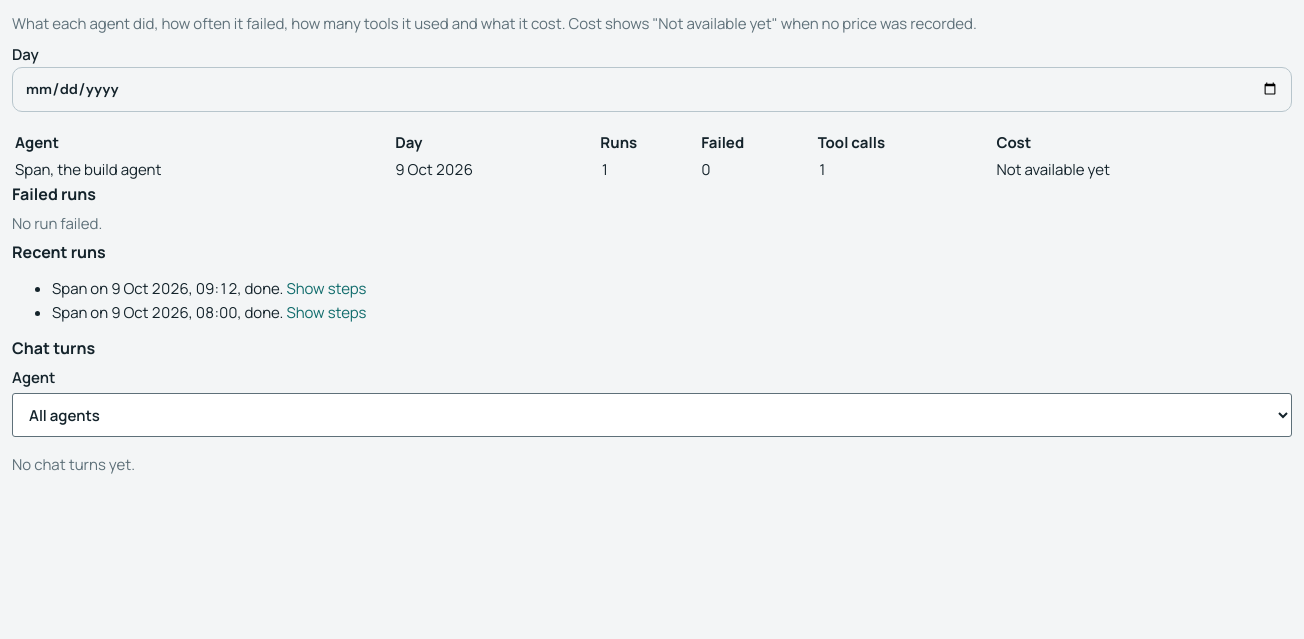
Scenario: W14: one date style, per-step price and a run total; a run with no trace says no steps were recorded
Expected: the list named "Recent runs" shows "Span on 9 Oct 2026, 09:12, done.", [52, 277, 366, 324]
Expected: the table named "Runs by agent and day" shows "9 Oct 2026", [395, 159, 473, 180]
Step 1. Click the button "Show steps" in the row of "on 9 Oct 2026, 09:12" → {"x": 326, "y": 289}, box [286, 277, 366, 301]
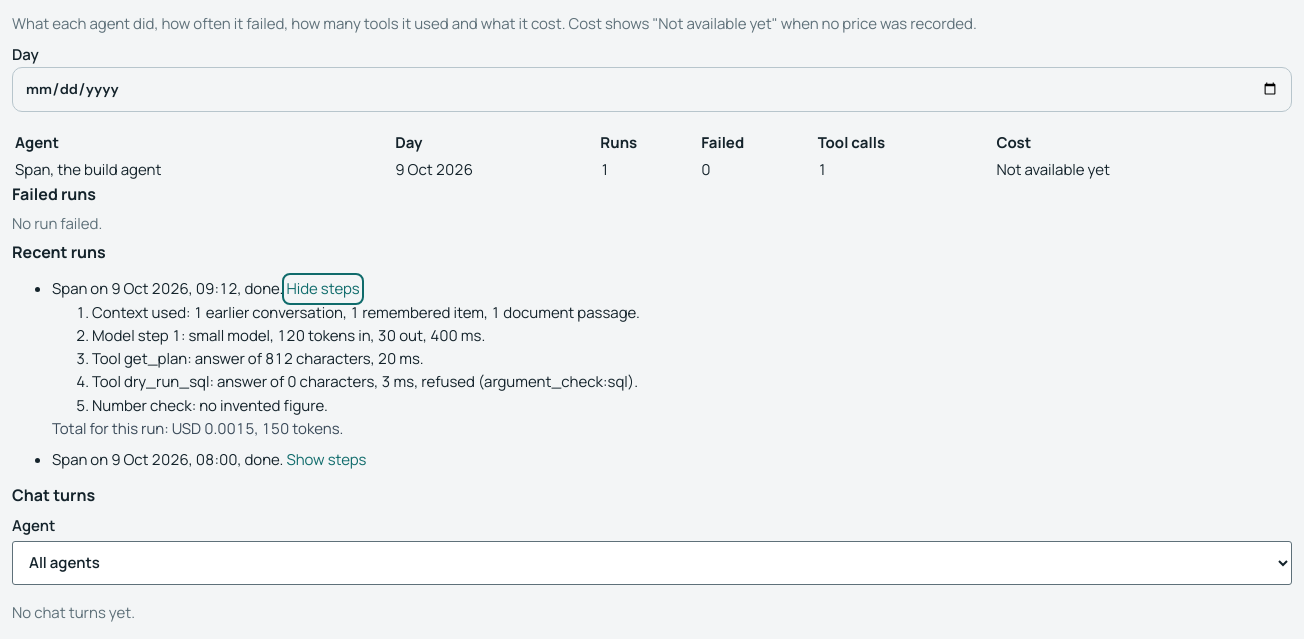
Expected: the text "Total for this run: USD 0.0015, 150 tokens." is shown, [52, 418, 343, 439]
Step 2. Click the button "Show steps" → {"x": 326, "y": 460}, box [286, 448, 366, 471]
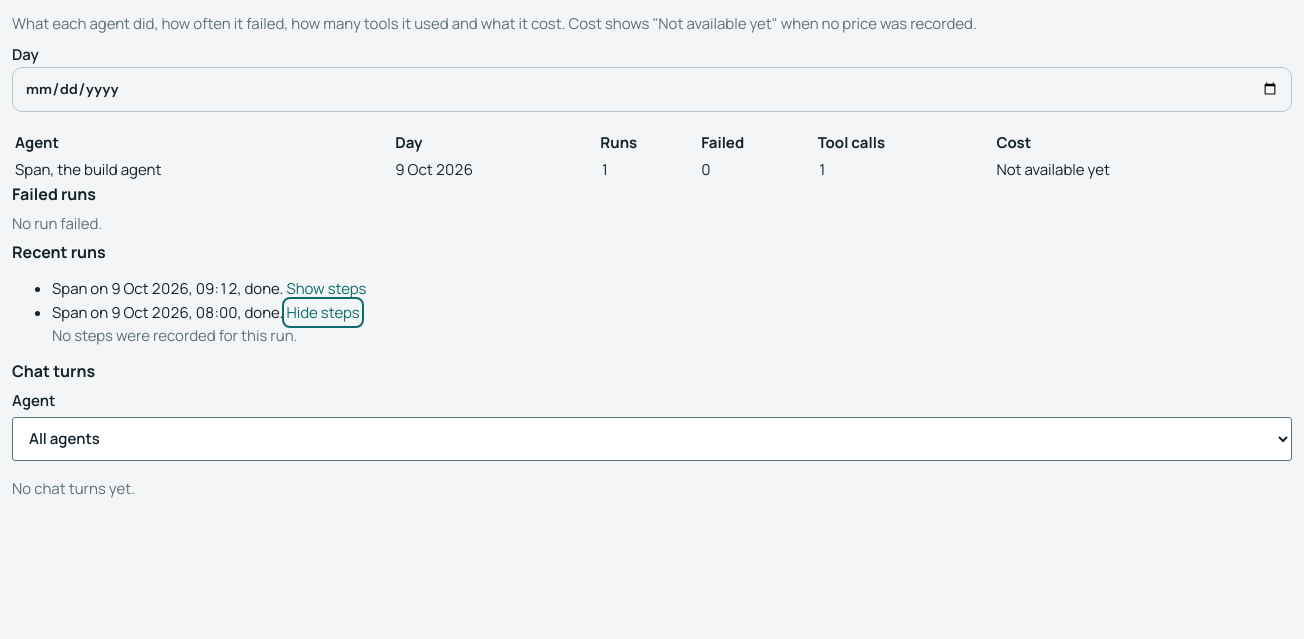
Expected: the text "No steps were recorded for this run." is shown, [52, 325, 297, 346]
